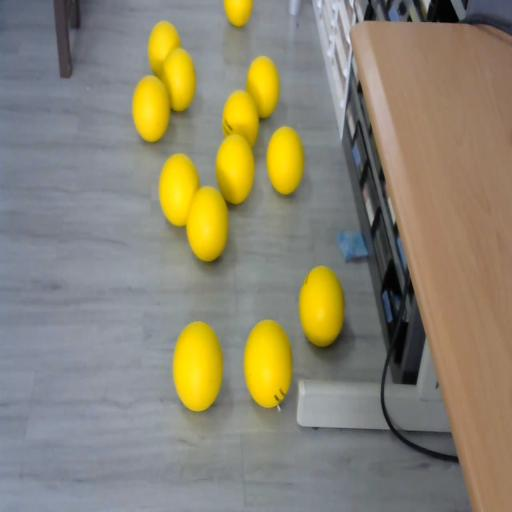FUEL: (172, 320, 224, 411), (242, 318, 294, 408), (298, 266, 344, 346), (185, 184, 230, 264), (215, 133, 256, 204), (266, 124, 304, 196), (132, 75, 170, 142), (246, 56, 280, 118), (148, 21, 180, 78), (224, 0, 254, 27)
